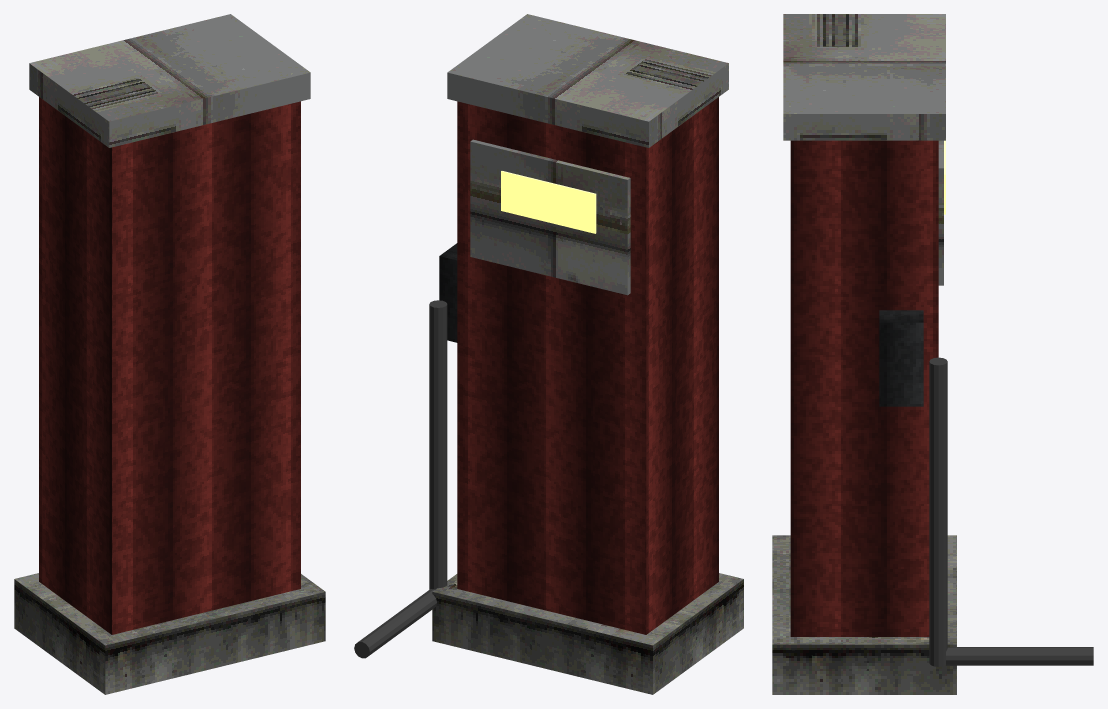
File: fuel_pump.glb
The picture shows the model from 3 angles, left to right: view 1: azimuth 30°, elevation 25°; view 2: azimuth 150°, elevation 25°; view 3: azimuth 270°, elevation 25°; orthographic projection.
Parts seen in each view (by area): view 1: fuel_pump; view 2: fuel_pump; view 3: fuel_pump.
Boxes of the visible parts, x1,y1,x2,y2 form: fuel_pump: (14,14,325,694); fuel_pump: (354,14,743,694); fuel_pump: (772,14,1093,694).
Size of the model in its own units: 0.735 by 1.72 by 0.87.
Materials: 6 (4 with a texture image).
